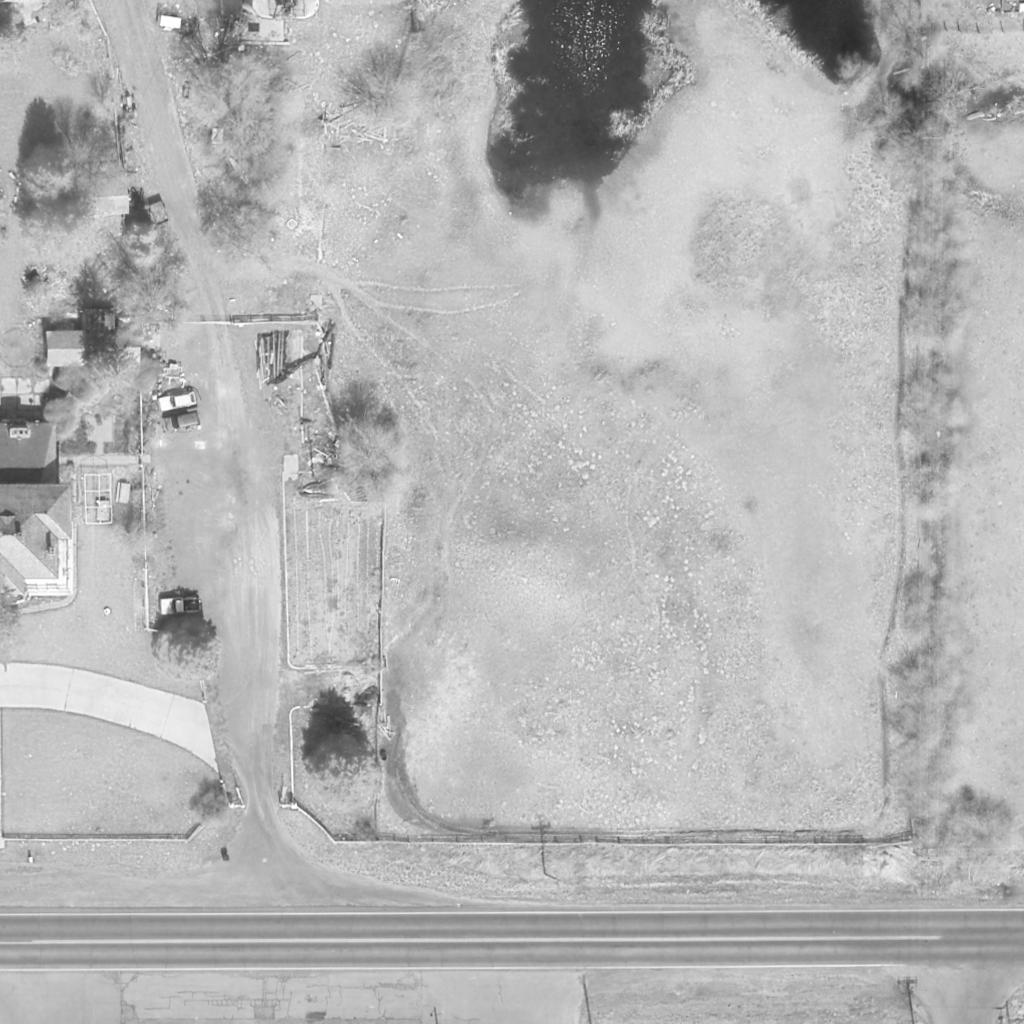vehicle: (159, 412, 201, 436), (156, 392, 198, 412), (160, 597, 202, 615), (121, 92, 139, 118)
